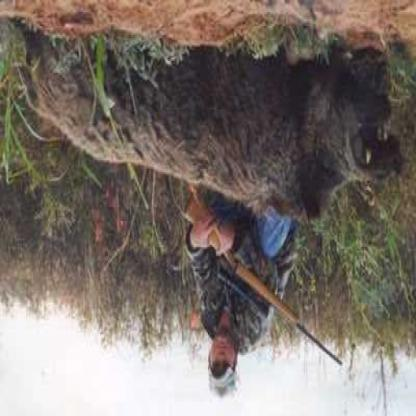boar: (19, 6, 404, 207)
